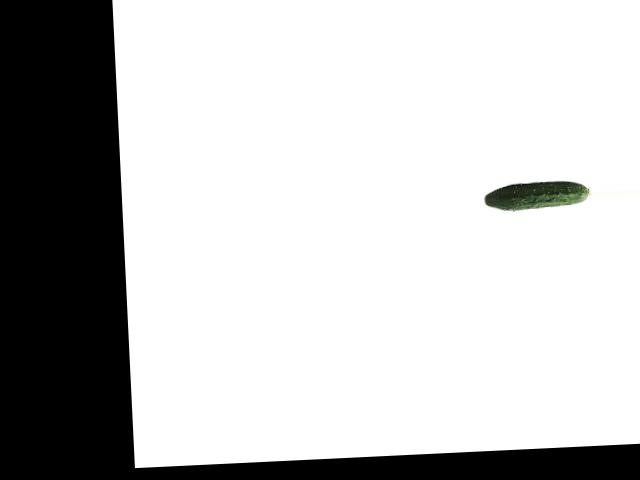cucumber: (483, 180, 590, 211)
